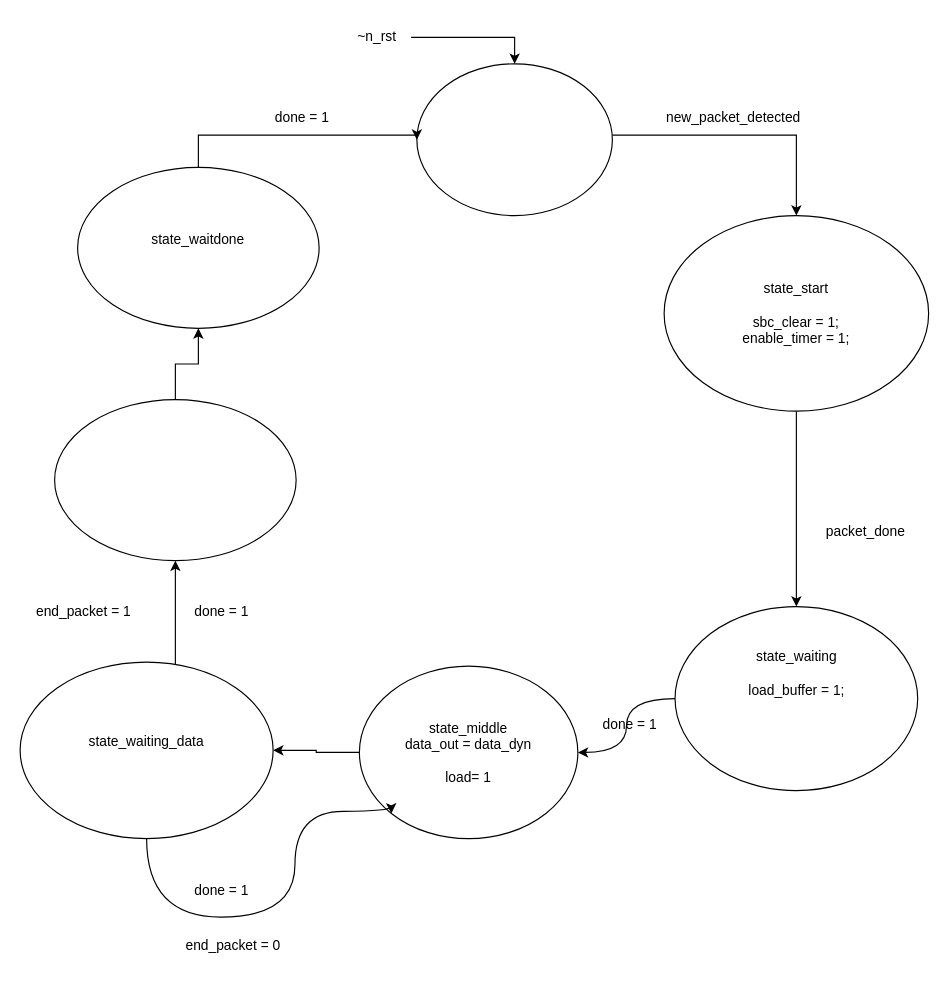
The diagram is 949 pixels wide and 982 high, and some of its shapes have lost their labels. The shapes that lost their labels are listed below. From the top down, each one's centre as x and y in pixels, then its label:
(514,139): state_idle
(174,479): state_done const_select = 1; data_out = data_const; load = 1
